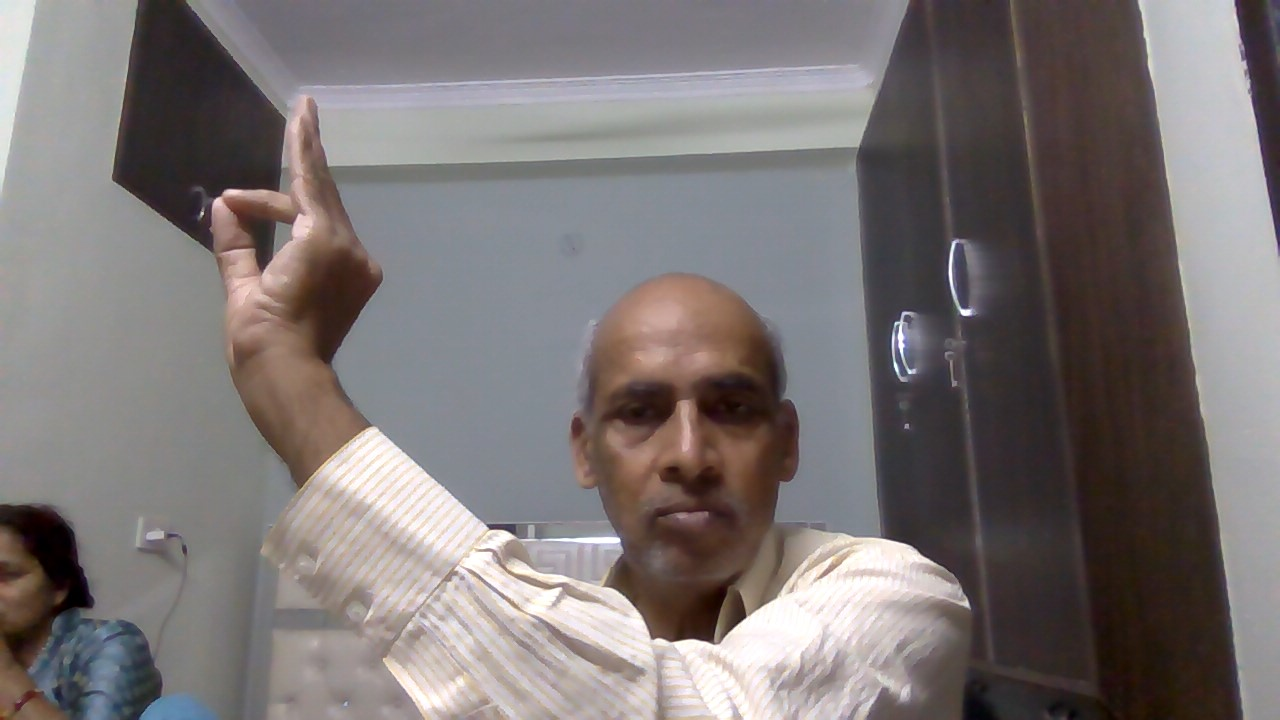Copy: (191, 86, 401, 398)
